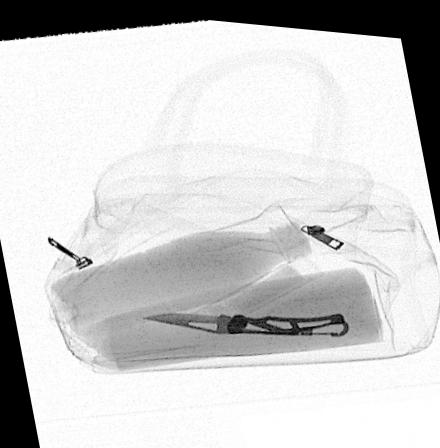Knife: (139, 306, 349, 329)
